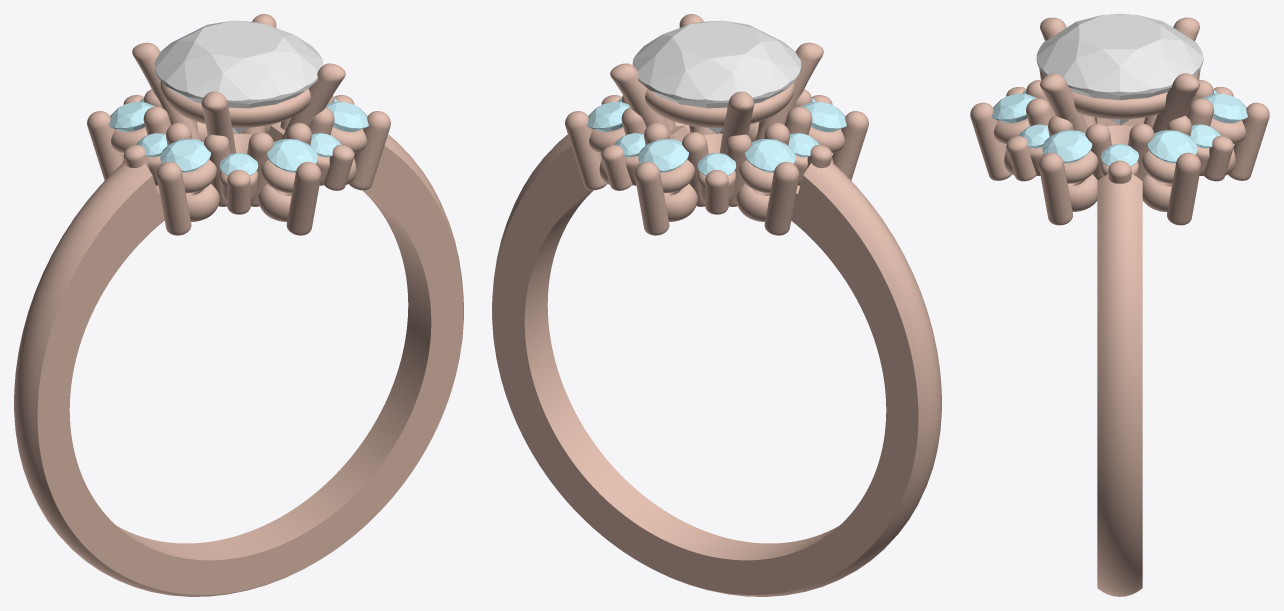
The model's file is NoahV2EngRose.glb.
3 views of the same model, side by side, from view 1: azimuth 30°, elevation 25°; view 2: azimuth 150°, elevation 25°; view 3: azimuth 270°, elevation 25° (orthographic).
Visible parts, largest first — view 1: Noah RG for 3d model, V2 Noah PT for 3d model, V2 Noah dia for 3d model, Noah aqua for 3d model - for model only.006, Noah aqua for 3d model - for model only.011, Noah aqua for 3d model - for model only.007, Noah aqua for 3d model - for model only.010, Noah aqua for 3d model - for model only.005; view 2: Noah RG for 3d model, V2 Noah PT for 3d model, V2 Noah dia for 3d model, Noah aqua for 3d model - for model only.007, Noah aqua for 3d model - for model only.008, Noah aqua for 3d model - for model only.006, Noah aqua for 3d model - for model only.009, Noah aqua for 3d model - for model only.001; view 3: V2 Noah PT for 3d model, Noah RG for 3d model, V2 Noah dia for 3d model, Noah aqua for 3d model - for model only.009, Noah aqua for 3d model - for model only.010, Noah aqua for 3d model - for model only.008, Noah aqua for 3d model - for model only.011, Noah aqua for 3d model - for model only.003, Noah aqua for 3d model - for model only.002, Noah aqua for 3d model - for model only.004.
Boxes of the visible parts, x1,y1,x2,y2 form: Noah RG for 3d model: [14, 134, 463, 596]; V2 Noah PT for 3d model: [87, 14, 390, 235]; V2 Noah dia for 3d model: [154, 20, 323, 133]; Noah aqua for 3d model - for model only.006: [160, 139, 210, 172]; Noah aqua for 3d model - for model only.011: [267, 139, 317, 172]; Noah aqua for 3d model - for model only.007: [109, 102, 154, 131]; Noah aqua for 3d model - for model only.010: [326, 102, 368, 131]; Noah aqua for 3d model - for model only.005: [219, 153, 258, 175]; Noah RG for 3d model: [492, 134, 941, 596]; V2 Noah PT for 3d model: [565, 14, 868, 235]; V2 Noah dia for 3d model: [632, 20, 801, 133]; Noah aqua for 3d model - for model only.007: [745, 139, 795, 172]; Noah aqua for 3d model - for model only.008: [638, 139, 688, 172]; Noah aqua for 3d model - for model only.006: [801, 102, 846, 131]; Noah aqua for 3d model - for model only.009: [587, 102, 629, 131]; Noah aqua for 3d model - for model only.001: [697, 153, 736, 175]; V2 Noah PT for 3d model: [970, 17, 1269, 225]; Noah RG for 3d model: [1097, 174, 1142, 596]; V2 Noah dia for 3d model: [1036, 14, 1203, 125]; Noah aqua for 3d model - for model only.009: [1147, 130, 1197, 163]; Noah aqua for 3d model - for model only.010: [1042, 130, 1092, 163]; Noah aqua for 3d model - for model only.008: [1202, 93, 1247, 123]; Noah aqua for 3d model - for model only.011: [992, 93, 1037, 123]; Noah aqua for 3d model - for model only.003: [1101, 144, 1138, 166]; Noah aqua for 3d model - for model only.002: [1190, 124, 1220, 148]; Noah aqua for 3d model - for model only.004: [1019, 124, 1049, 148].
Bounding box in the file's own units: 19.89 × 23.67 × 11.87.
